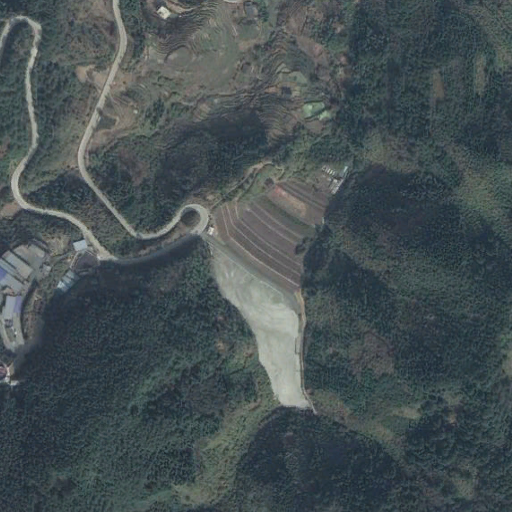tp: (206, 164, 345, 411)
